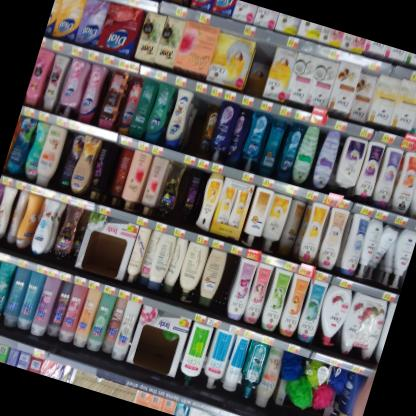empty_space: (213, 251, 242, 310), (186, 90, 214, 149)
